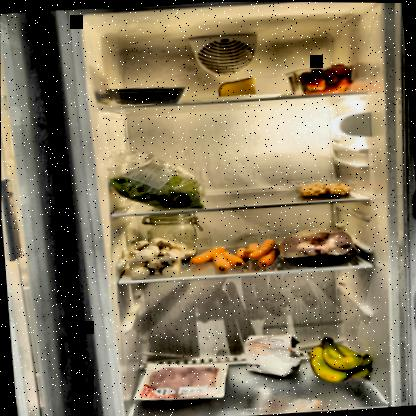banana: (305, 329, 378, 387)
carrot: (186, 239, 282, 275)
cheese: (215, 75, 258, 99)
chicken: (276, 226, 362, 270)
mushrooms: (121, 237, 187, 281)
shrimp: (296, 179, 351, 199)
spinach: (99, 154, 206, 218)
strawberries: (290, 59, 358, 96)
